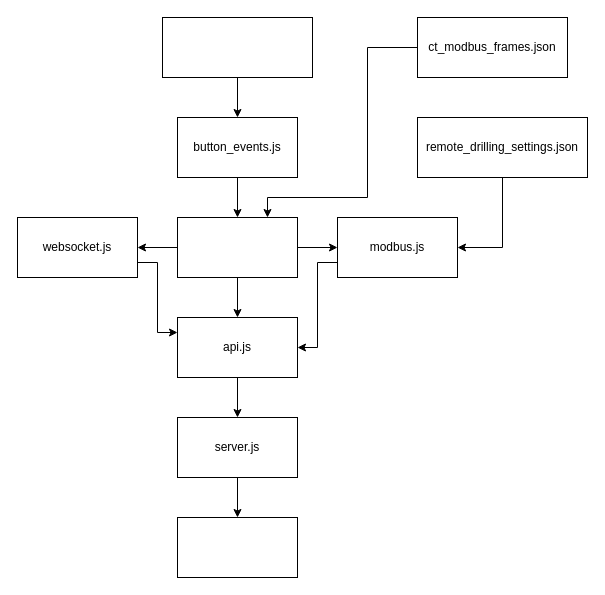
The diagram is 605 pixels wide and 595 high, and some of its shapes have lost their labels. Here are the shapes that lost their labels. From the top down, the centre of each, then its label:
At [237,47]: "button_information.json".
At [237,247]: "remote_drilling.js".
At [237,547]: "main.js".
